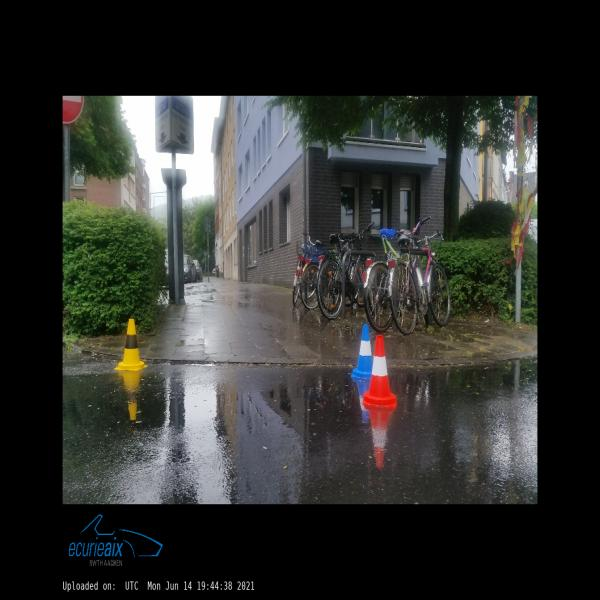blue_cone: (352, 324, 372, 379)
orange_cone: (362, 335, 396, 406)
yellow_cone: (114, 319, 146, 370)
